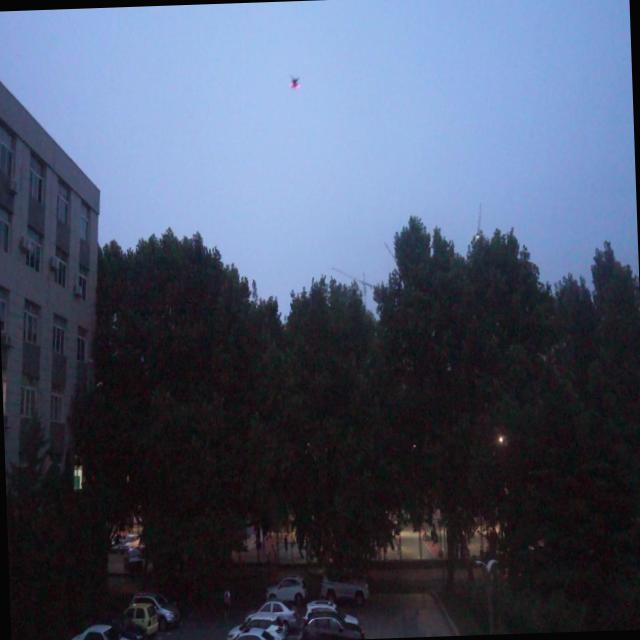drone: (286, 70, 302, 94)
